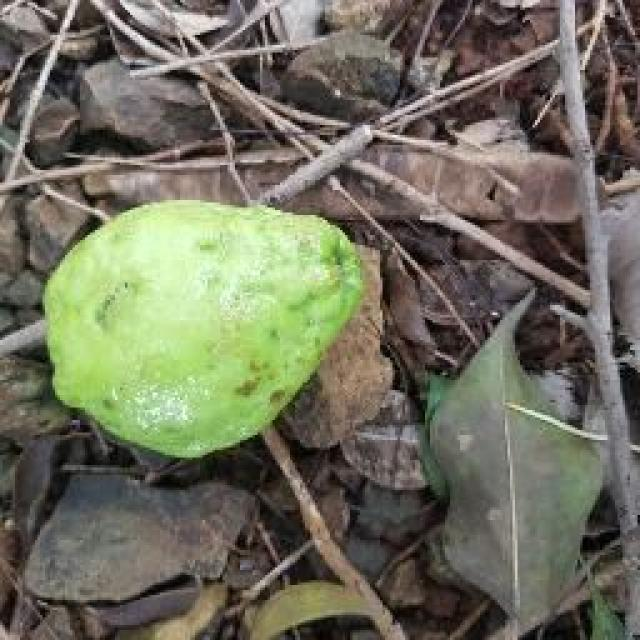Good_Guava: (40, 200, 368, 465)
